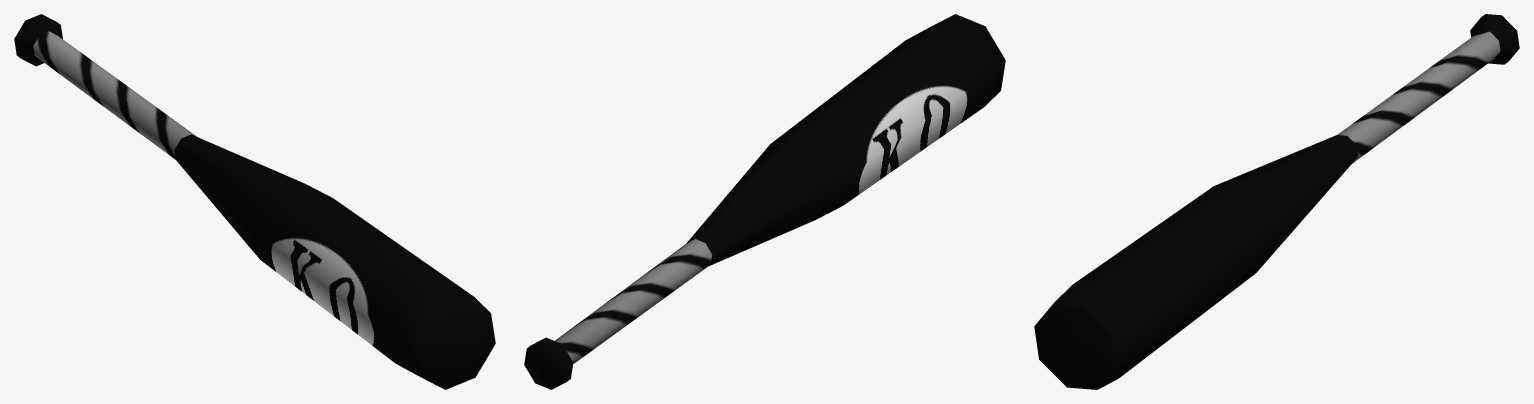
The model's file is W002_0100_Skin.FBX.
The picture shows the model from 3 angles, left to right: view 1: azimuth 30°, elevation 25°; view 2: azimuth 150°, elevation 25°; view 3: azimuth 330°, elevation 25°; orthographic projection.
Visible parts, largest first — view 1: W002_0100; view 2: W002_0100; view 3: W002_0100.
Boxes of the visible parts, box(x1,y1,x2,y2) form: W002_0100: box(14, 14, 495, 389); W002_0100: box(524, 14, 1005, 389); W002_0100: box(1034, 14, 1519, 389).
Bounding box in the file's own units: 11.6 × 11.6 × 95.37.
